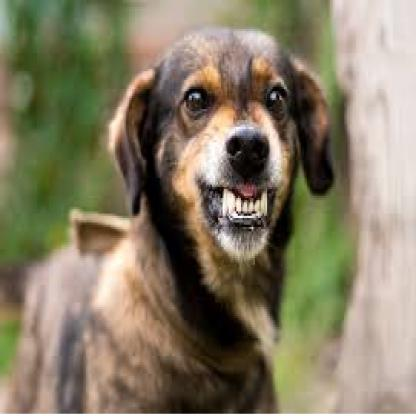dog: (68, 18, 337, 406)
